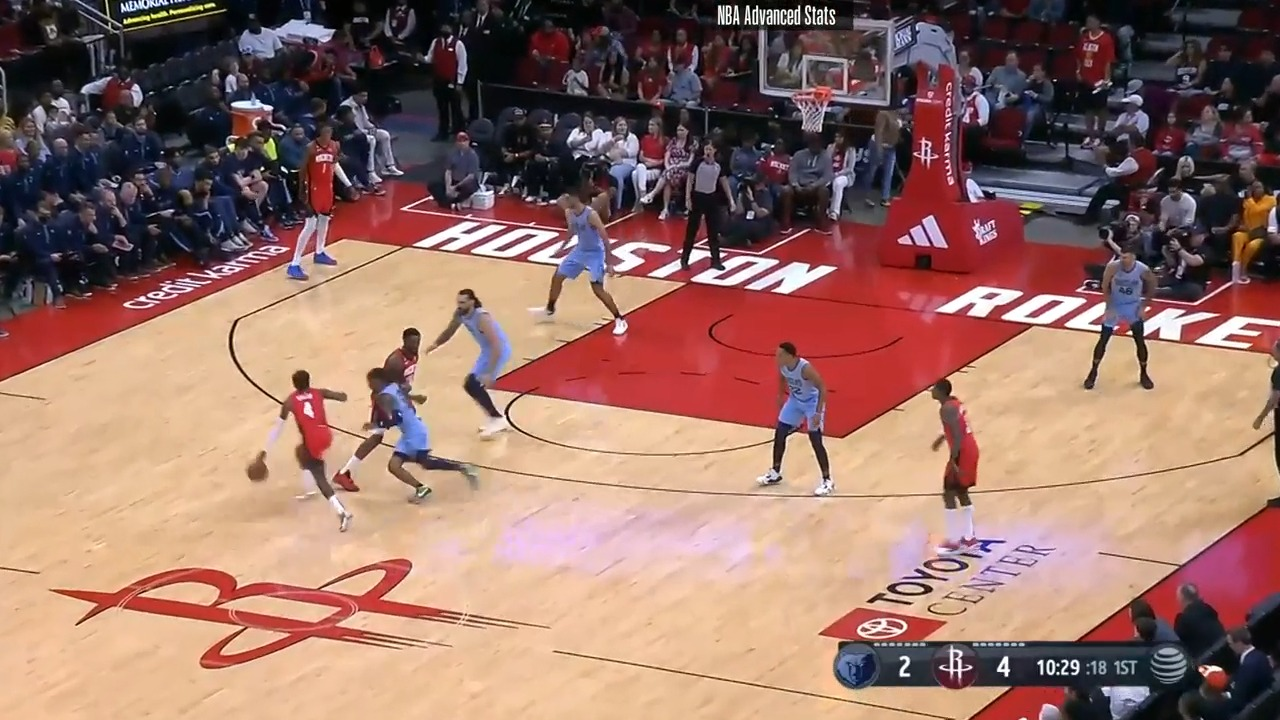net: (776, 84, 838, 134)
player: (360, 367, 479, 508), (256, 365, 352, 532), (925, 373, 1000, 574), (538, 177, 631, 336), (334, 323, 422, 488), (1082, 228, 1166, 395), (424, 286, 511, 441), (760, 336, 842, 496), (290, 122, 354, 286), (1252, 306, 1280, 536)
referee: (676, 141, 732, 281)
